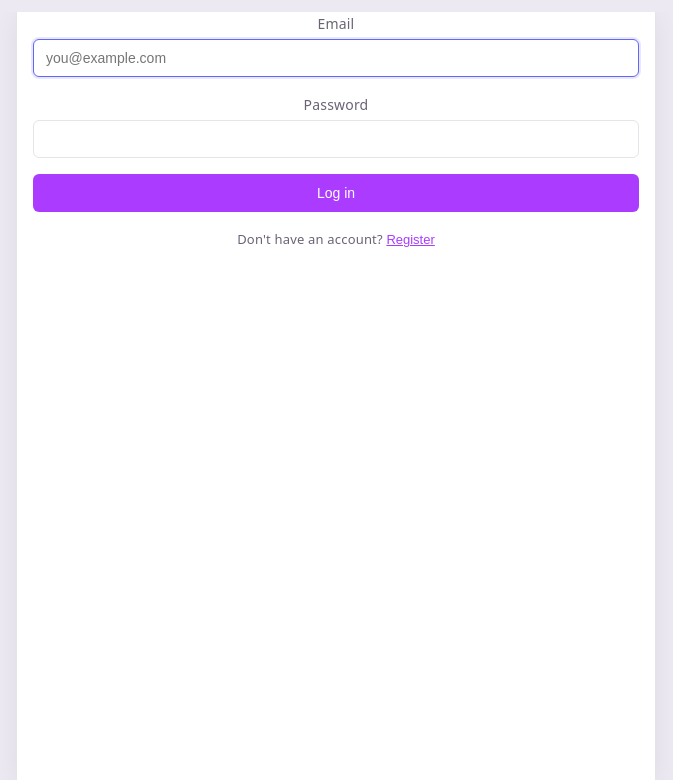
LoginForm › 401 response › shows 'Incorrect email or password' inline error
The width and height of the screenshot is (673, 780).
Type "wrong@example.com" into the field labelled "Email".
click(336, 58); type("wrong@example.com")  # box [33,39,639,77]
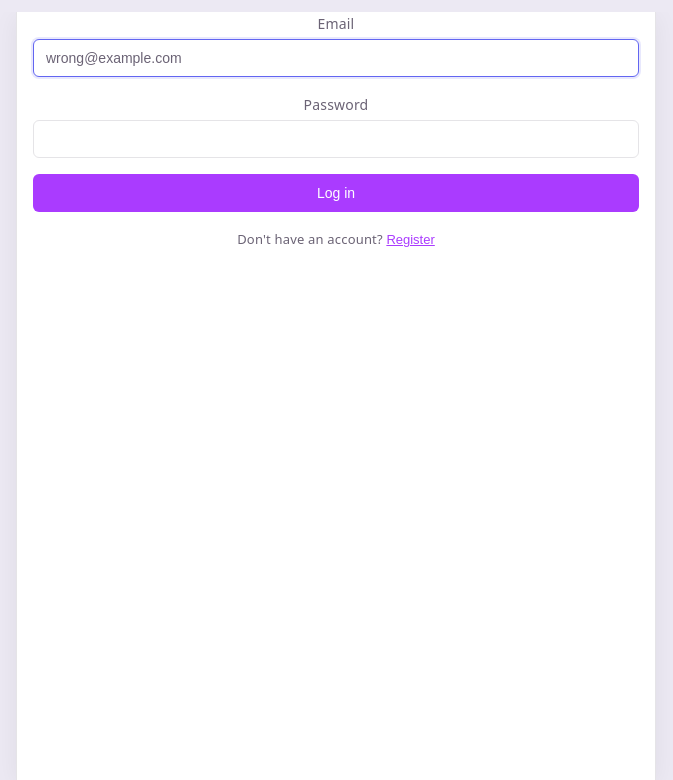
Type "wrongpass" into the password field labelled "Password".
click(336, 139); type("wrongpass")  # box [33,120,639,158]
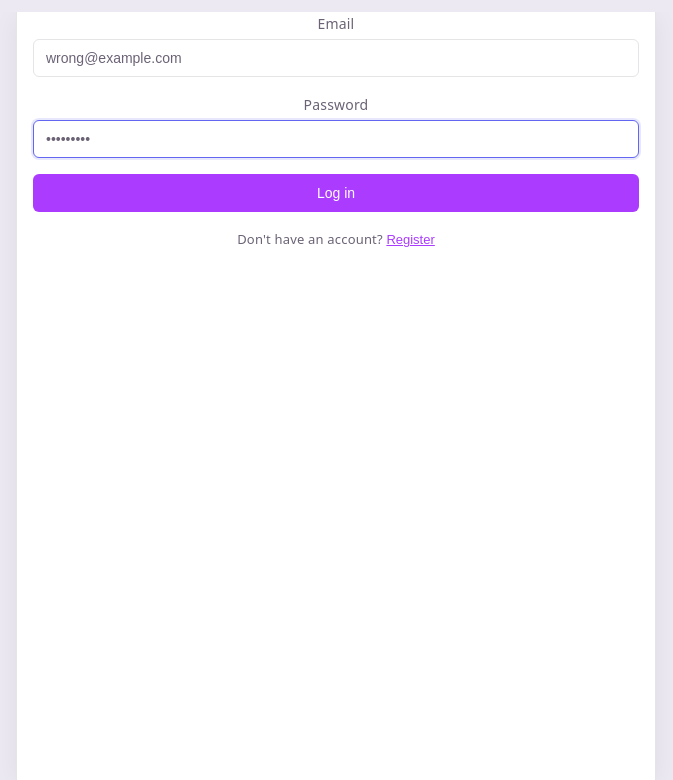
Click the button "Log in".
click(336, 193)  # box [33,174,639,212]
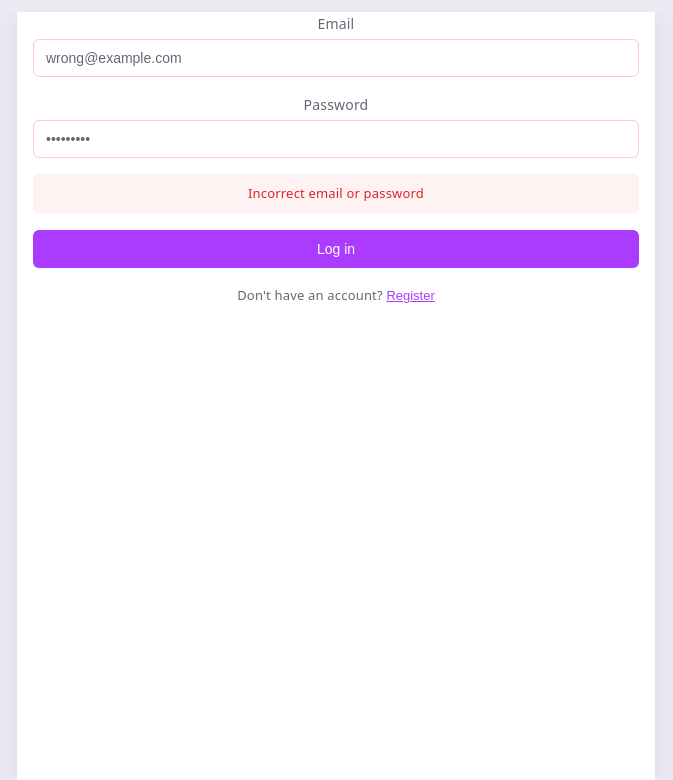
Now the message reads "Incorrect email or password", box [248,184,424,202]
